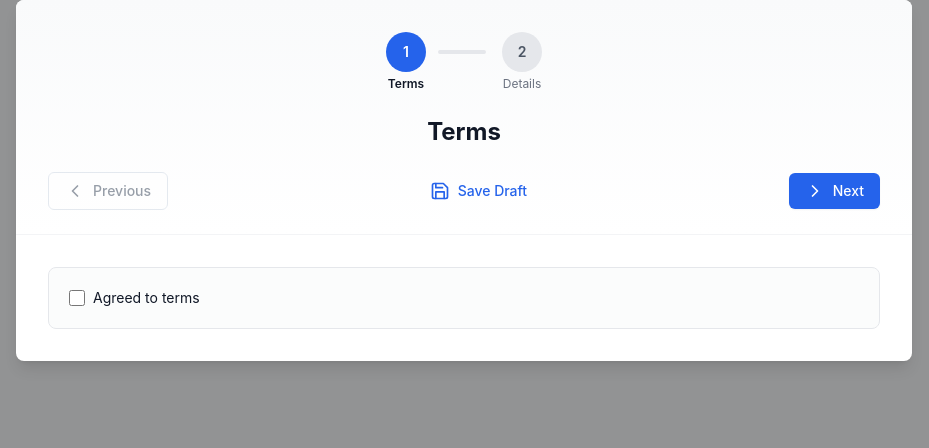
Scenario: FormWizard step completion condition (KNG-186) › once the condition holds, Next moves on
This screenshot has width=929, height=448.
What coordinates should you click on to do the following:
click the checkbox
I would click on:
 (77, 298)
Its box is [69,290,85,306].
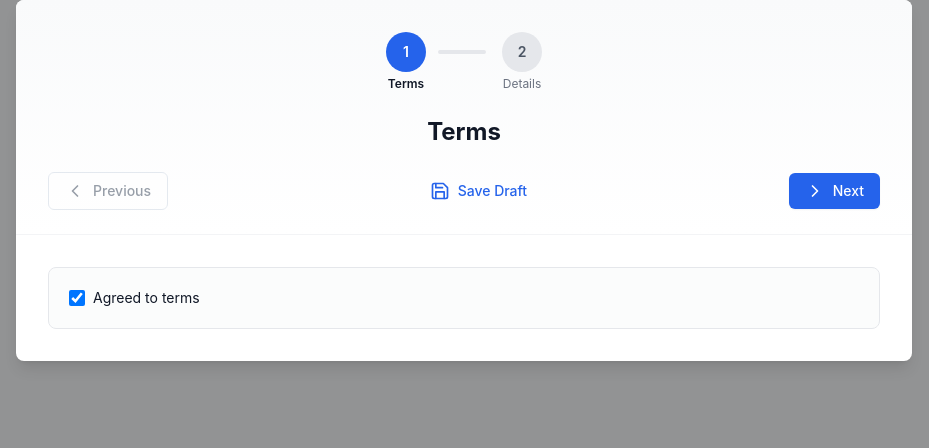
What coordinates should you click on to do the following:
click the button "Next"
I would click on:
 (834, 191)
Its box is [789,173,880,209].
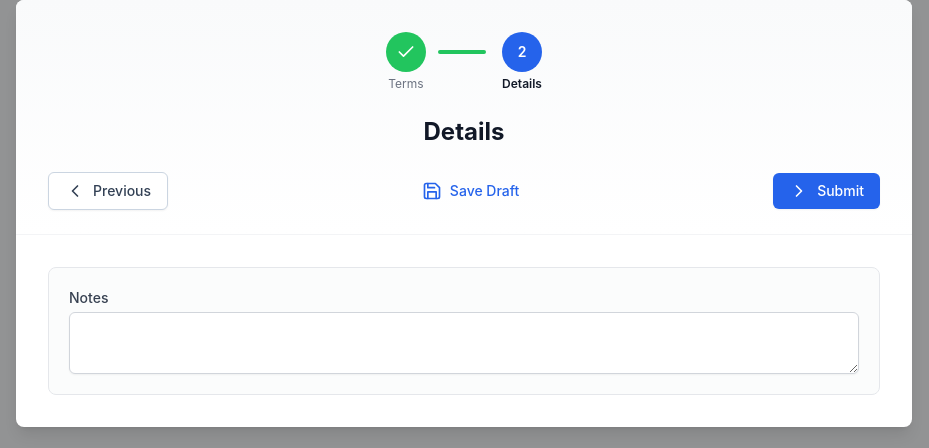
Expected: the button "Submit" is shown, [773,173,880,209]
